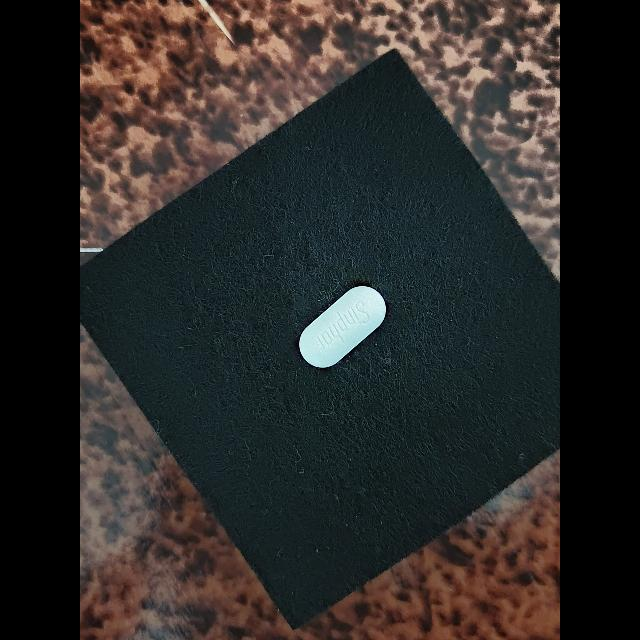Intact Pill: (299, 286, 387, 368)
